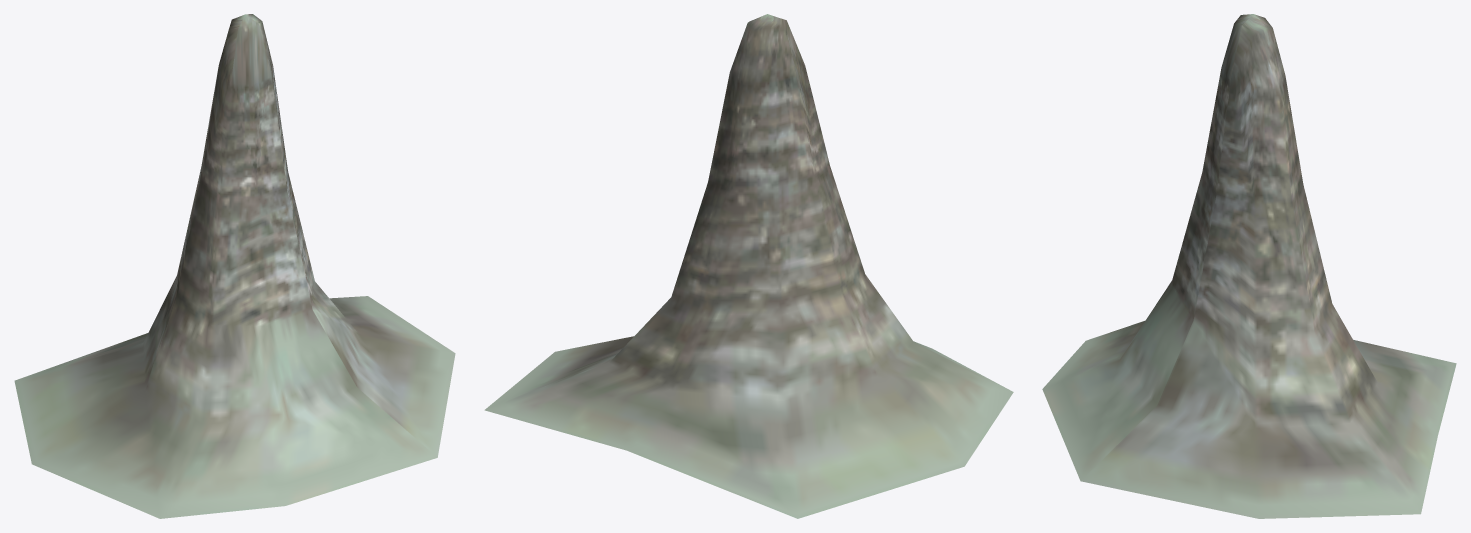
Rendered from TROLLHOLE02_PS-UPPERSTALAG06.fbx.
3 renders of one model, left to right at view 1: azimuth 30°, elevation 25°; view 2: azimuth 150°, elevation 25°; view 3: azimuth 270°, elevation 25°, orthographic. The views are drawn at different scales.
Parts seen in each view (by area): view 1: TROLLHOLE02_PS-UPPERSTALAG06; view 2: TROLLHOLE02_PS-UPPERSTALAG06; view 3: TROLLHOLE02_PS-UPPERSTALAG06.
Boxes of the visible parts, x1=… form: TROLLHOLE02_PS-UPPERSTALAG06: x1=14, y1=14, x2=455, y2=518; TROLLHOLE02_PS-UPPERSTALAG06: x1=484, y1=14, x2=1013, y2=518; TROLLHOLE02_PS-UPPERSTALAG06: x1=1042, y1=14, x2=1456, y2=518.
Bounding box in the file's own units: 17052 × 15823 × 14341.
Materials: 1 (1 with a texture image).
